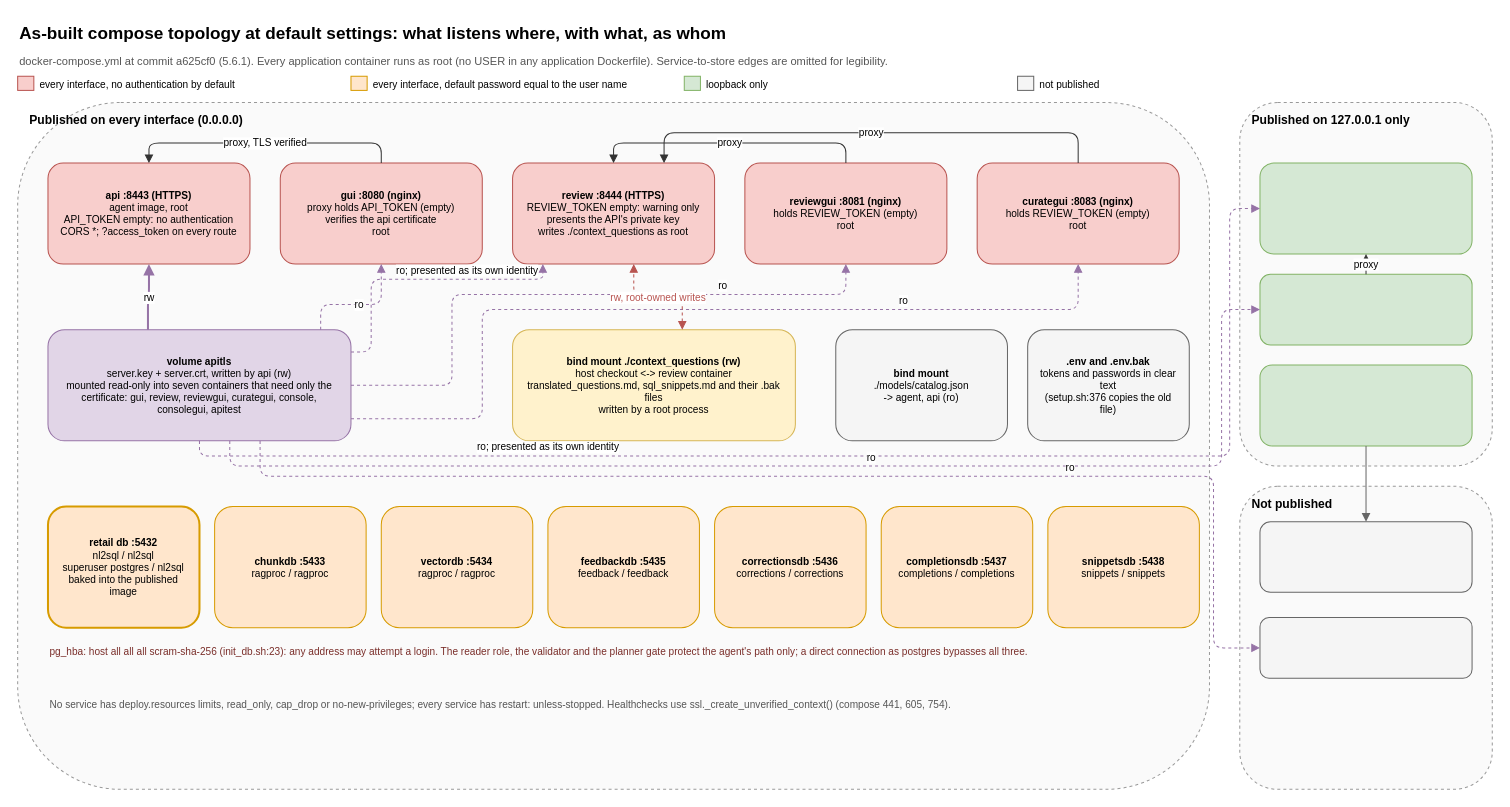
This 1510x807 diagram has some shape labels left out. The shapes that lost their labels are listed below. From the top down, each one's centre as x and y in pixels, then its label:
At point (1365, 208): "console :8445 (HTTPS) CONSOLE_TOKEN empty presents the API's private key root".
At point (1365, 309): "consolegui :8082 (nginx) holds CONSOLE_TOKEN (empty), root".
At point (1365, 405): "mlflow :5001 no login; shows every question's rows".
At point (1365, 556): "mlflowdb mlflow / mlflow".
At point (1365, 647): "apitest (smoke test) mounts apitls read-only".
